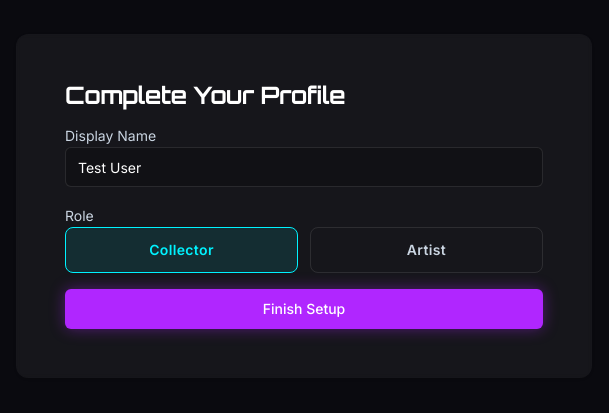
Test: OnboardingPage in Normal Mode › should submit profile successfully
Expected: the field with placeholder "Your name" holds "Test User", [65, 147, 543, 187]
What coordinates should you click on to do the following:
click the button "Finish Setup"
I would click on:
 (304, 309)
Its box is [65, 289, 543, 329].
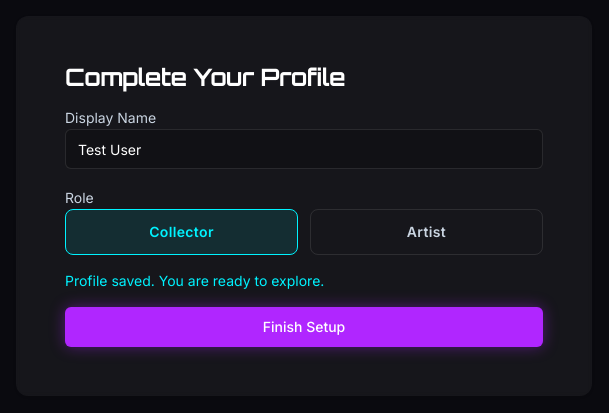
Now the text "Profile saved. You are ready to explore." is shown, box [65, 272, 324, 289]
